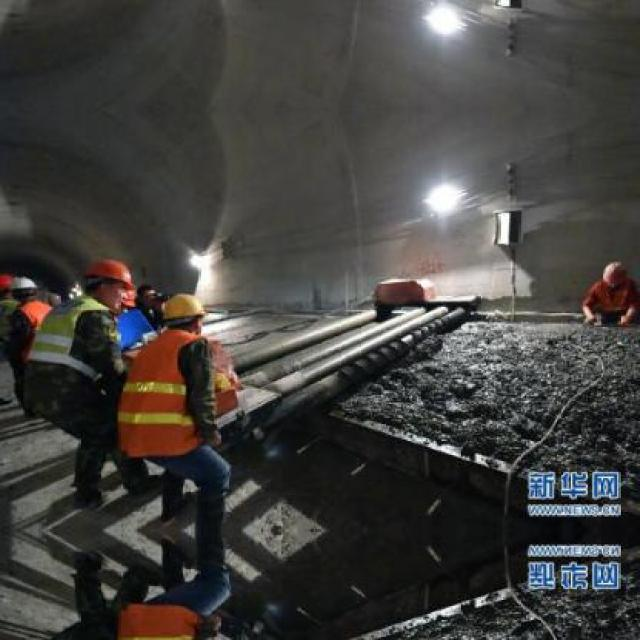helmet: (78, 258, 138, 314), (157, 291, 206, 334), (10, 272, 39, 309), (601, 260, 627, 291)
